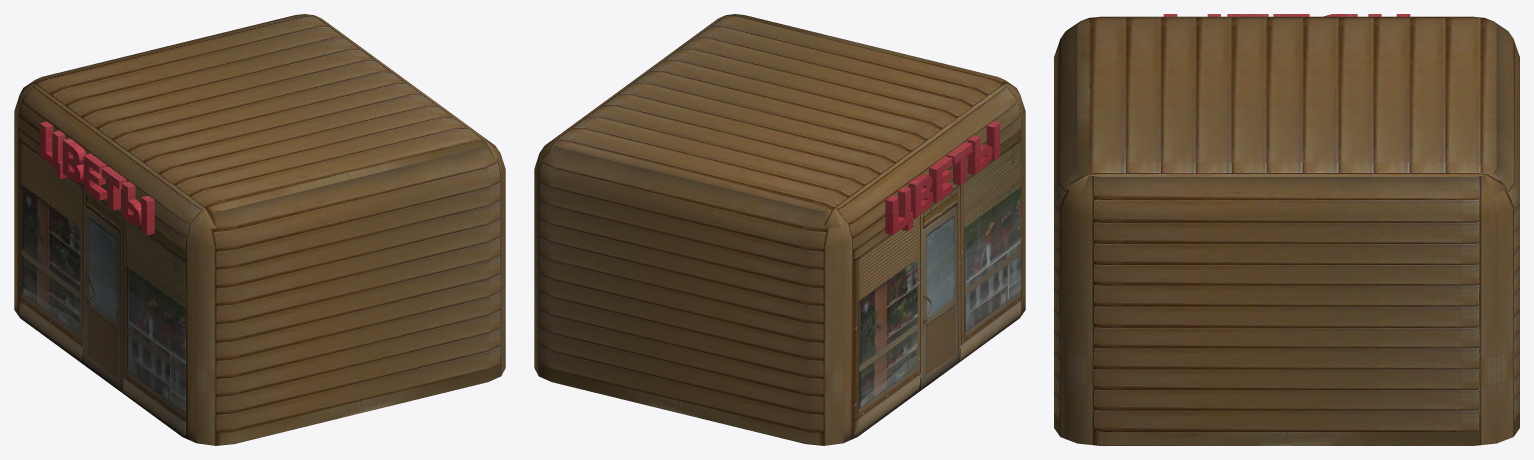
File: r402_ishim_larek_cveti.FBX
The picture shows the model from 3 angles, left to right: view 1: azimuth 30°, elevation 25°; view 2: azimuth 150°, elevation 25°; view 3: azimuth 270°, elevation 25°; orthographic projection. The views are drawn at different scales.
Visible parts, largest first — view 1: r402_ishim_larek_cveti; view 2: r402_ishim_larek_cveti; view 3: r402_ishim_larek_cveti.
Boxes of the visible parts, box(x1,y1,x2,y2) form: r402_ishim_larek_cveti: box(14, 14, 505, 445); r402_ishim_larek_cveti: box(534, 14, 1025, 445); r402_ishim_larek_cveti: box(1054, 14, 1519, 445).
Size of the model in its own units: 429 by 463 by 291.
